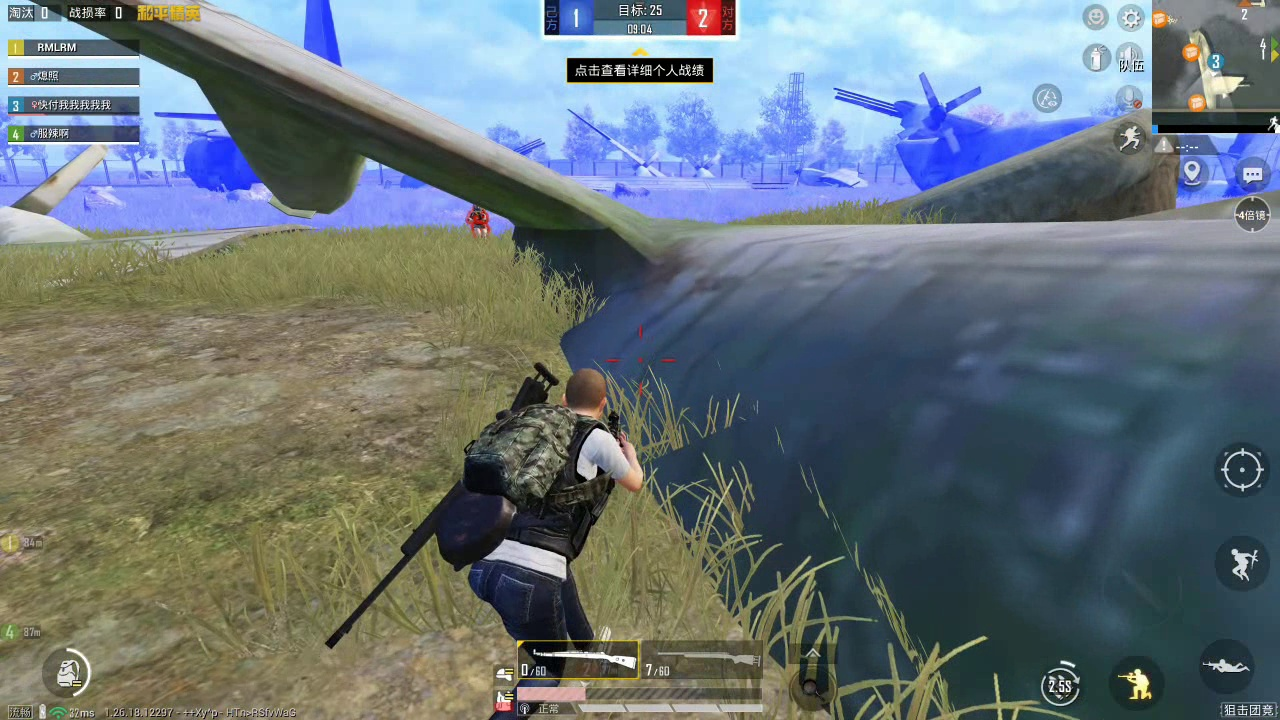enemy: (464, 199, 493, 240)
